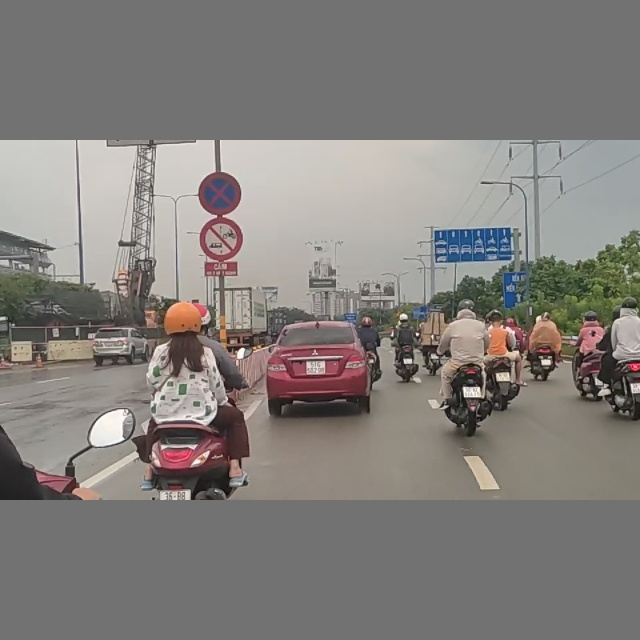P.111: (200, 217, 242, 260)
P.130: (198, 173, 240, 214)
